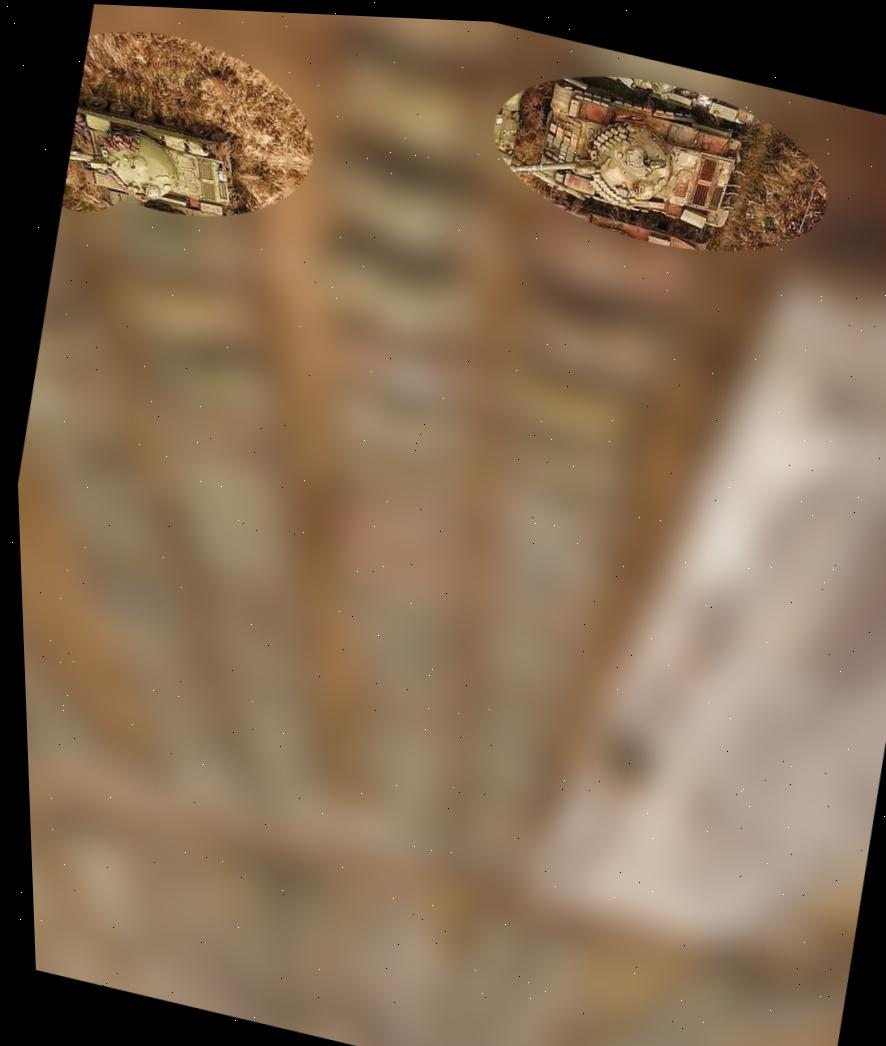tank: (485, 47, 759, 253), (59, 74, 273, 241)
